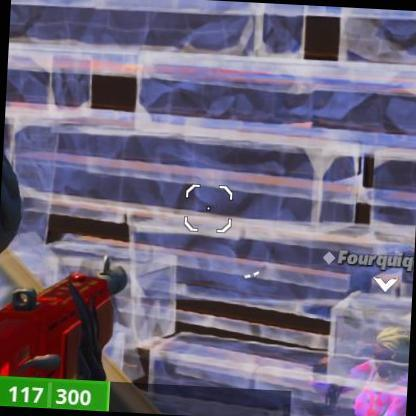person: (346, 321, 409, 416)
